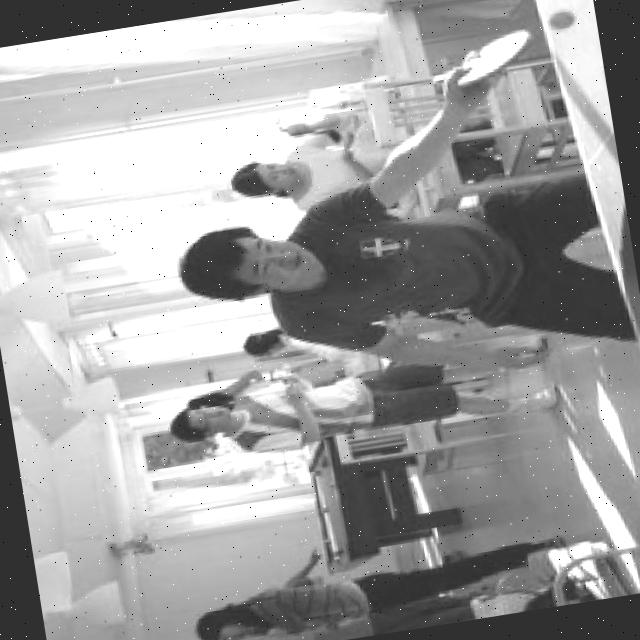ping-pong-ball: (547, 7, 578, 30)
